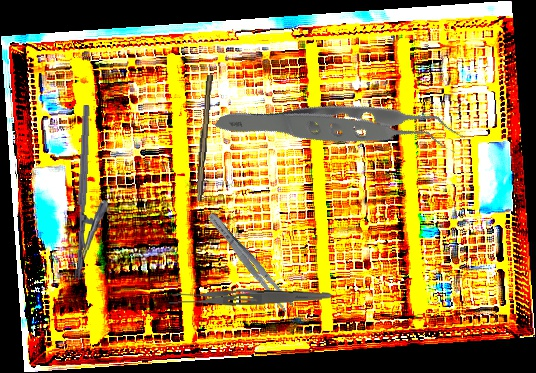Dressing Forceps: (204, 209, 296, 314), (167, 285, 333, 308)
Needle Holder: (72, 104, 115, 282)
Scalpel Handle: (194, 74, 213, 202)
Tissue Forceps: (212, 15, 468, 247)
